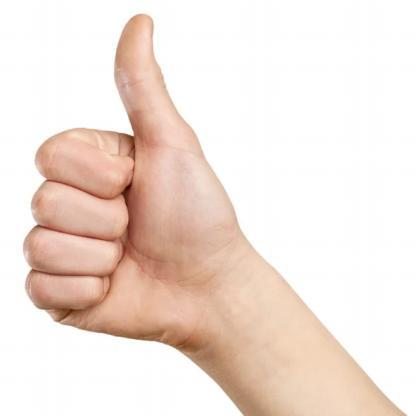thumb_up: (22, 10, 233, 345)
